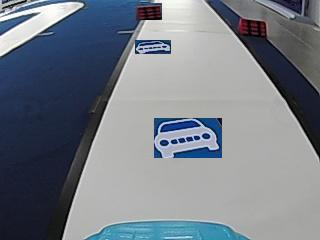bomb: (237, 17, 268, 36)
